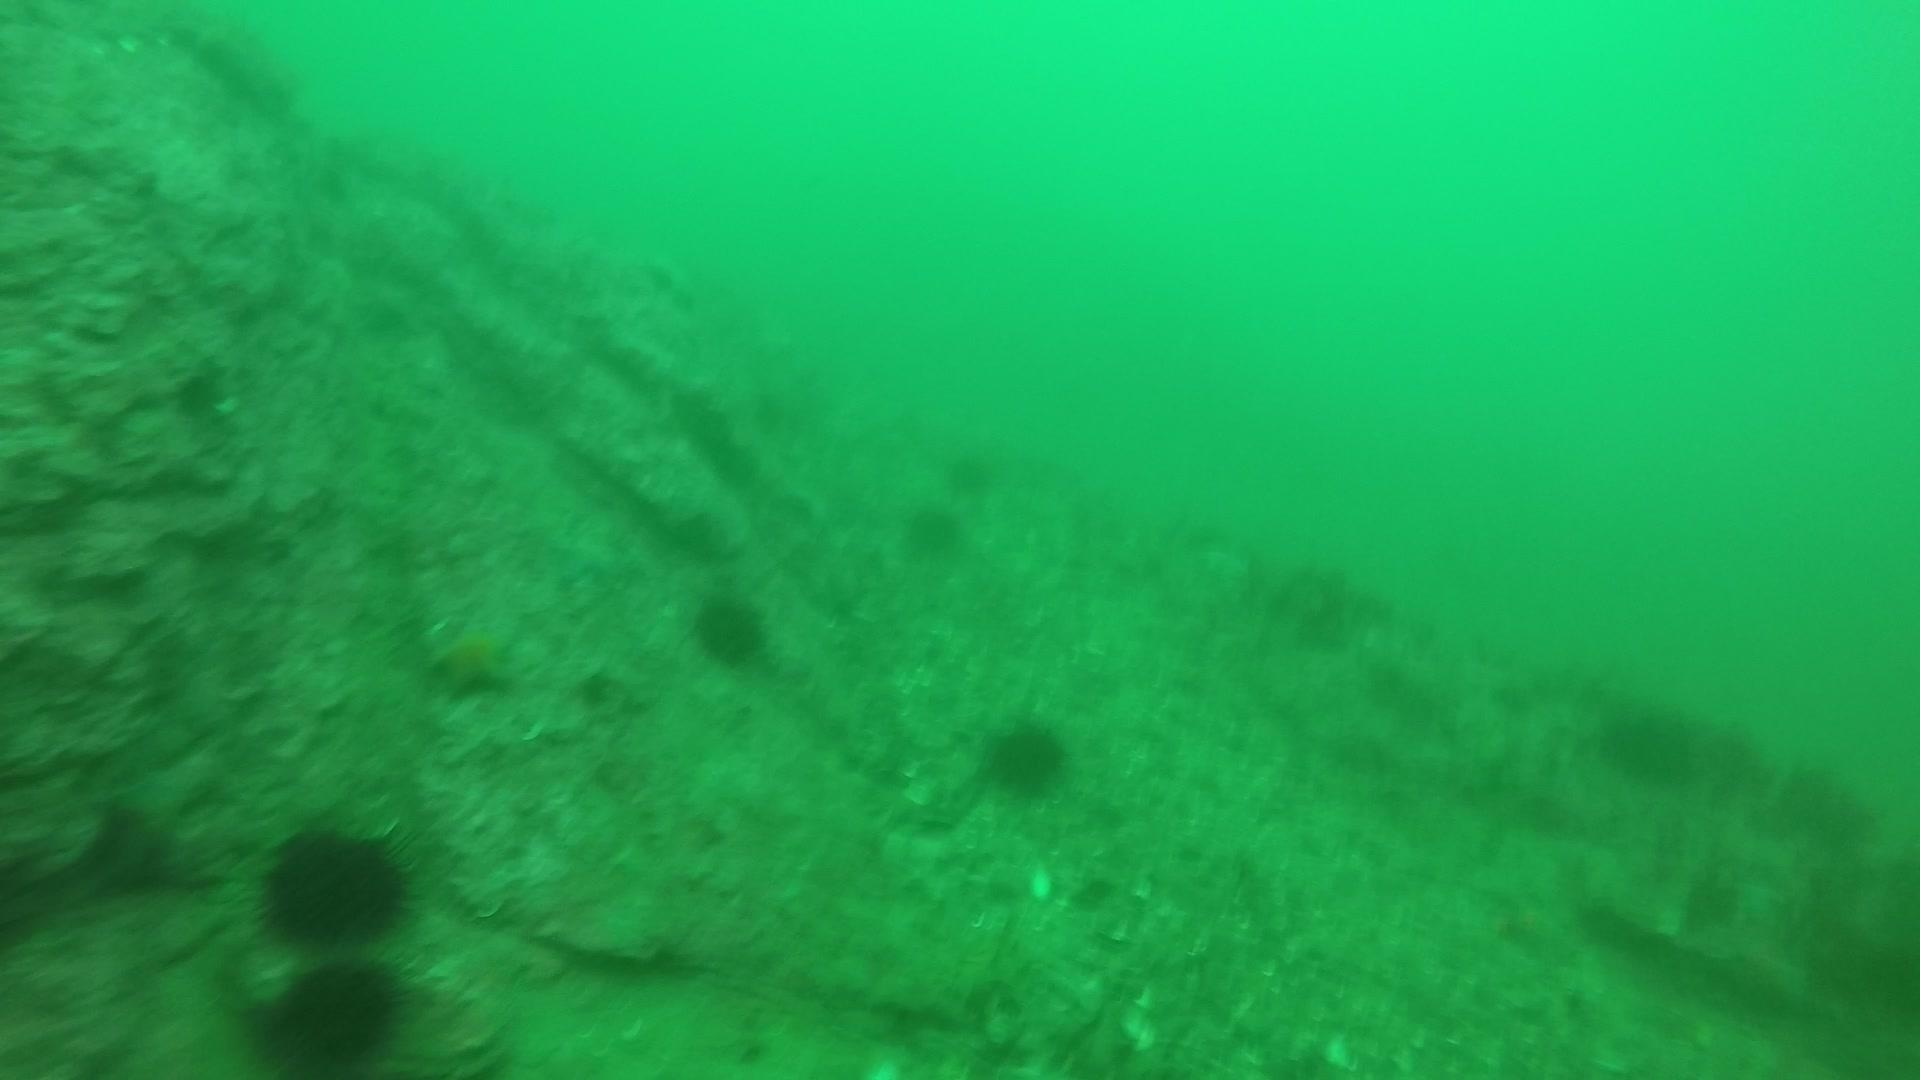echinus: (251, 816, 418, 952), (253, 952, 413, 1069), (1596, 698, 1706, 789), (977, 711, 1073, 800), (684, 585, 774, 673), (898, 498, 969, 563), (939, 440, 1002, 500)
starfish: (418, 607, 524, 703)
